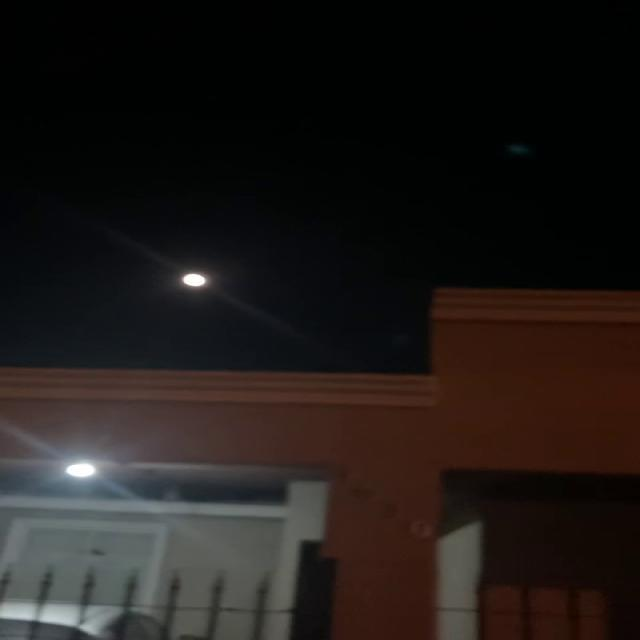moon: (168, 263, 220, 294)
